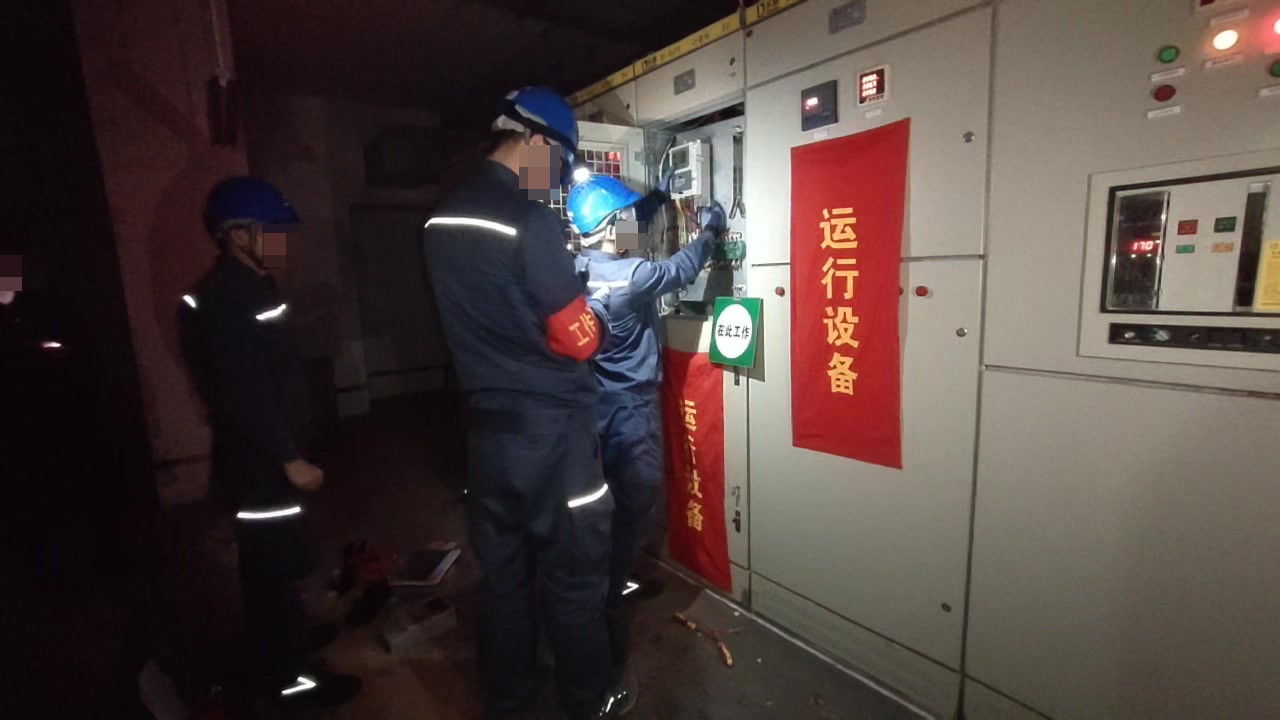badge: (543, 296, 604, 366)
downsuit: (463, 433, 622, 720), (210, 484, 320, 649), (601, 403, 670, 565)
glove: (698, 204, 729, 234)
halt: (485, 85, 581, 201), (205, 179, 299, 273), (569, 174, 651, 247)
inear: (512, 124, 555, 185), (220, 219, 270, 267), (594, 213, 630, 253)
person: (412, 65, 624, 720), (159, 158, 371, 695), (563, 171, 707, 551)
unhalt: (205, 179, 299, 273)
upsuit: (420, 157, 602, 440), (167, 264, 319, 461), (583, 247, 676, 395)
worksign: (709, 297, 761, 372)
